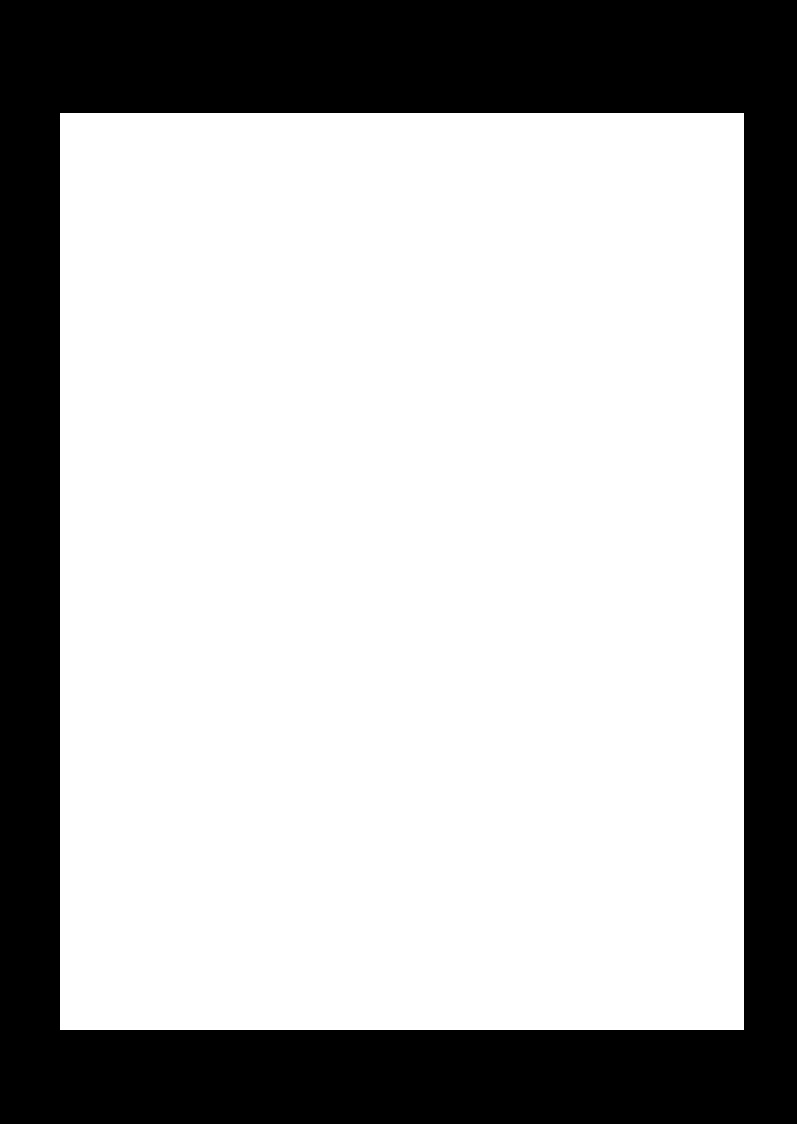table: (60, 113, 743, 1029)
